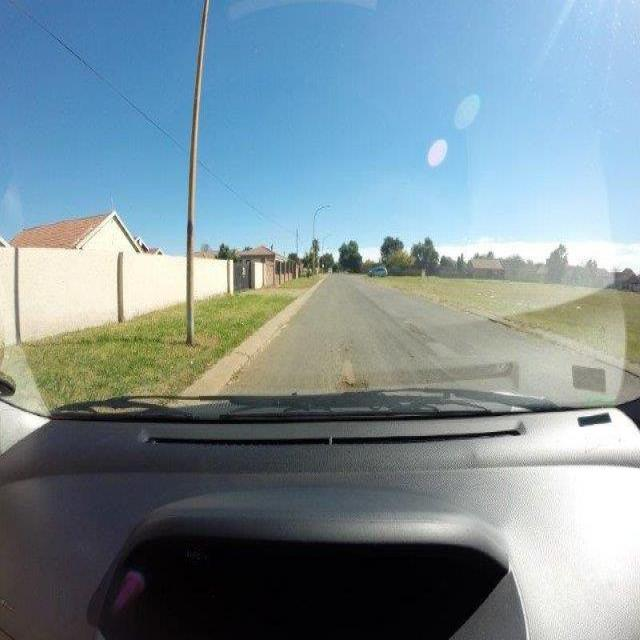lubang: (336, 369, 371, 390)
